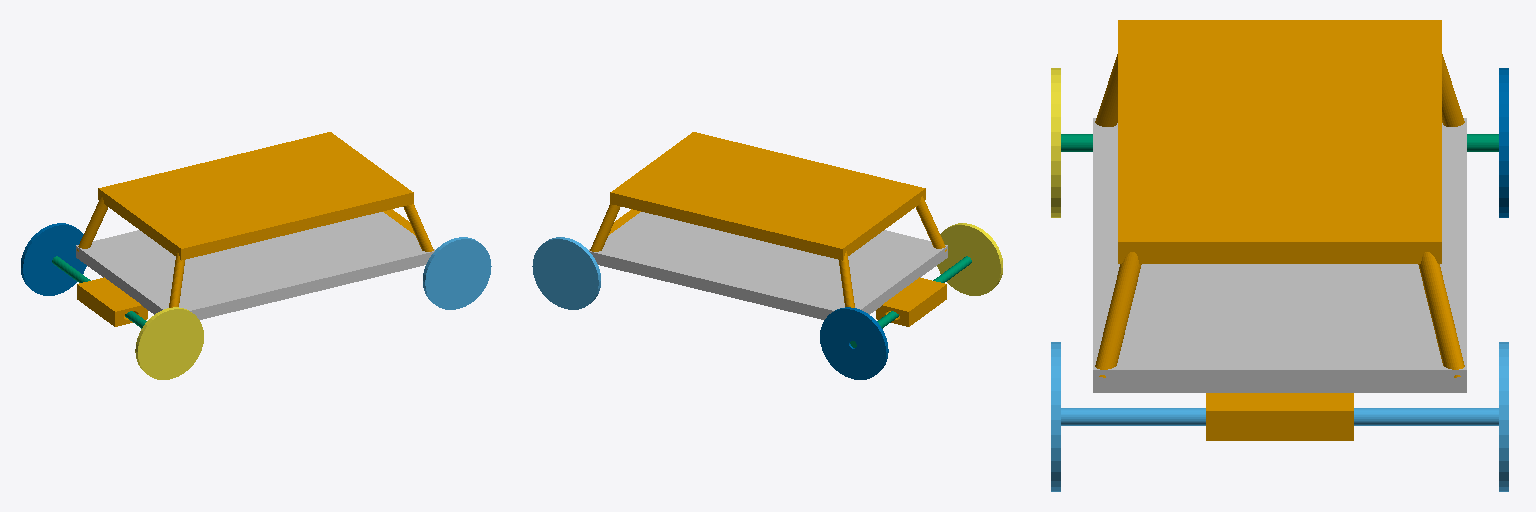
URDF robot description (Bilkins):
<?xml version="1.0"?>
<robot name="Bilkins">


  <link name="chassis">
    <visual>
      <geometry>
        <mesh filename="package://bilkins/meshes/chassis.dae" scale="0.1 0.1 0.1" />
      </geometry>
      <origin rpy="0.0 0 0" xyz="0 0 0"/>
    </visual>
    <collision>
      <geometry>
        <mesh filename="package://bilkins/meshes/chassis.dae" scale="0.1 0.1 0.1" />
      </geometry>
      <origin rpy="0.0 0 0" xyz="0 0 0"/>
    </collision>
    <inertial>
      <mass value="0.2" />
      <inertia ixx="0.4" ixy="0.0" ixz="0.0" iyy="0.4" iyz="0.0" izz="0.2"/>
    </inertial>
  </link>

  <link name="rear_axle">
    <visual>
      <geometry>
        <mesh filename="package://bilkins/meshes/rear_axle.dae" scale="0.1 0.1 0.1" />
      </geometry>
      <origin xyz="-1.3 0 -0.5" />
    </visual>
    <collision>
      <geometry>
        <mesh filename="package://bilkins/meshes/rear_axle.dae" scale="0.1 0.1 0.1" />
      </geometry>
      <origin xyz="-1.3 0 -0.5" />
    </collision>
    <inertial>
      <mass value="0.14" />
      <inertia ixx="0.4" ixy="0.0" ixz="0.0" iyy="0.4" iyz="0.0" izz="0.2"/>
    </inertial>
  </link>

  <link name="front_axle">
    <visual>
      <geometry>
        <mesh filename="package://bilkins/meshes/front_axle.dae" scale="0.1 0.1 0.1" />
      </geometry>
      <origin xyz="1.3 0 -0.5" />
    </visual>
    <collision>
      <geometry>
        <mesh filename="package://bilkins/meshes/front_axle.dae" scale="0.1 0.1 0.1" />
      </geometry>
      <origin xyz="1.3 0 -0.5" />
    </collision>
    <inertial>
      <mass value="0.1" />
      <inertia ixx="0.4" ixy="0.0" ixz="0.0" iyy="0.4" iyz="0.0" izz="0.2"/>
    </inertial>
  </link>

  <link name="front_left_wheel">
    <visual>
      <geometry>
        <mesh filename="package://bilkins/meshes/front_left_wheel.dae" scale="0.1 0.1 0.1" />
      </geometry>
      <origin xyz="1.3 0.9 -0.5" />
    </visual>
    <collision>
      <geometry>
        <mesh filename="package://bilkins/meshes/front_left_wheel.dae" scale="0.1 0.1 0.1" />
      </geometry>
      <origin xyz="1.3 0.9 -0.5" />
    </collision>
    <inertial>
      <mass value="0.02" />
      <inertia ixx="0.4" ixy="0.0" ixz="0.0" iyy="0.4" iyz="0.0" izz="0.2"/>
    </inertial>
  </link>

  <link name="front_right_wheel">
    <visual>
      <geometry>
        <mesh filename="package://bilkins/meshes/front_right_wheel.dae" scale="0.1 0.1 0.1" />
      </geometry>
      <origin xyz="1.3 -0.9 -0.5" />
    </visual>
    <collision>
      <geometry>
        <mesh filename="package://bilkins/meshes/front_right_wheel.dae" scale="0.1 0.1 0.1" />
      </geometry>
      <origin xyz="1.3 -0.9 -0.5" />
    </collision>
    <inertial>
      <mass value="0.02" />
      <inertia ixx="0.4" ixy="0.0" ixz="0.0" iyy="0.4" iyz="0.0" izz="0.2"/>
    </inertial>
  </link>

  <joint name="rear_axle_to_chassis" type="continuous">
    <parent link="chassis"/>
    <child link="rear_axle" />
    <axis xyz="0 1 0" />
    <origin xyz="1.3 0 0.5" />
  </joint>

  <joint name="front_axle_to_chassis" type="revolute">
    <axis xyz="0 0 1" />
    <limit effort="1000.0" lower="-0.1" upper="0.1" velocity="0.5"/>
    <parent link="chassis"/>
    <child link="front_axle" />
    <origin xyz="-1.3 0 0.5" />
  </joint>

  <joint name="front_left_wheel_to_axle" type="continuous">
    <parent link="front_axle"/>
    <child link="front_left_wheel" />
    <axis xyz="0 1 0" />
    <origin xyz="0 -0.9 0" />
  </joint>

  <joint name="front_right_wheel_to_axle" type="continuous">
    <parent link="front_axle"/>
    <child link="front_right_wheel" />
    <axis xyz="0 1 0" />
    <origin xyz="0 0.9 0" />
  </joint>

  <joint name="hokuyo_joint" type="fixed">
    <axis xyz="0 1 0" />
    <origin xyz="0 0 0" rpy="0 0 0"/>
    <parent link="chassis"/>
    <child link="hokuyo_link"/>
  </joint>

  <!-- Hokuyo Laser -->
  <link name="hokuyo_link">
    <collision>
      <origin xyz="2 0 0" rpy="0 0 0"/>
      <geometry>
	<box size="1 1 1"/>
      </geometry>
    </collision>

    <visual>
      <origin xyz="0 0 0" rpy="0 0 0"/>
      <geometry>
        <mesh filename="package://bilkins/meshes/hokuyo.dae"/>
      </geometry>
    </visual>

    <inertial>
      <mass value="1e-5" />
      <origin xyz="0 0 0" rpy="0 0 0"/>
      <inertia ixx="1e-6" ixy="0" ixz="0" iyy="1e-6" iyz="0" izz="1e-6" />
    </inertial>
  </link>

</robot>

--- What the picture shows (computed from the rendered views, not written in the file) ---
The picture shows the robot from 3 angles, left to right: view 1: azimuth 30°, elevation 25°; view 2: azimuth 150°, elevation 25°; view 3: azimuth 270°, elevation 25°; orthographic projection.
Robot: Bilkins — 6 links, 5 joints (1 revolute, 3 continuous, 1 fixed); root link chassis; default pose: all joints at 0.
Visible links, largest first — view 1: chassis, rear_axle, front_left_wheel, front_right_wheel, front_axle; view 2: chassis, rear_axle, front_right_wheel, front_left_wheel, front_axle; view 3: chassis, rear_axle, front_left_wheel, front_right_wheel, front_axle.
Link boxes in pixels (x1,y1,x2,y2): chassis: [76, 132, 434, 326]; rear_axle: [423, 237, 491, 309]; front_left_wheel: [135, 307, 203, 379]; front_right_wheel: [21, 223, 86, 295]; front_axle: [52, 256, 146, 328]; chassis: [589, 132, 947, 326]; rear_axle: [532, 237, 600, 309]; front_right_wheel: [820, 307, 888, 379]; front_left_wheel: [937, 223, 1002, 295]; front_axle: [850, 256, 971, 347]; chassis: [1093, 20, 1466, 440]; rear_axle: [1051, 342, 1508, 491]; front_left_wheel: [1051, 68, 1060, 217]; front_right_wheel: [1499, 68, 1508, 217]; front_axle: [1061, 134, 1498, 151].
Size in the robot's own frame: 3.2 by 1.84 by 0.9589 metres.
Meshes: 6 distinct files referenced, 5 mesh visuals loaded (5 Collada DAE); not drawn: 1 (reference not matched to a file when rendering).
